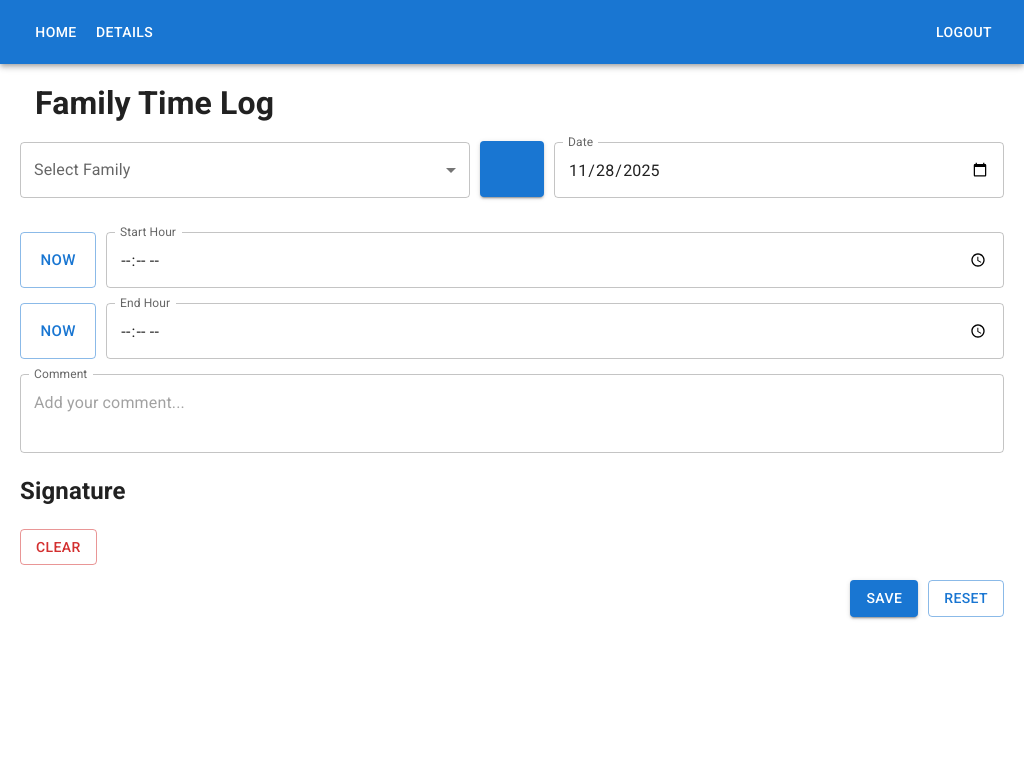
it: Time logger test › should prevent from saving if family is not selected and show validation
This screenshot has width=1024, height=768.
What coordinates should you click on to do the following:
click the button with test id "time-log-save-log-button"
I would click on:
 (885, 599)
Its box is x1=851 y1=580 x2=919 y2=617.
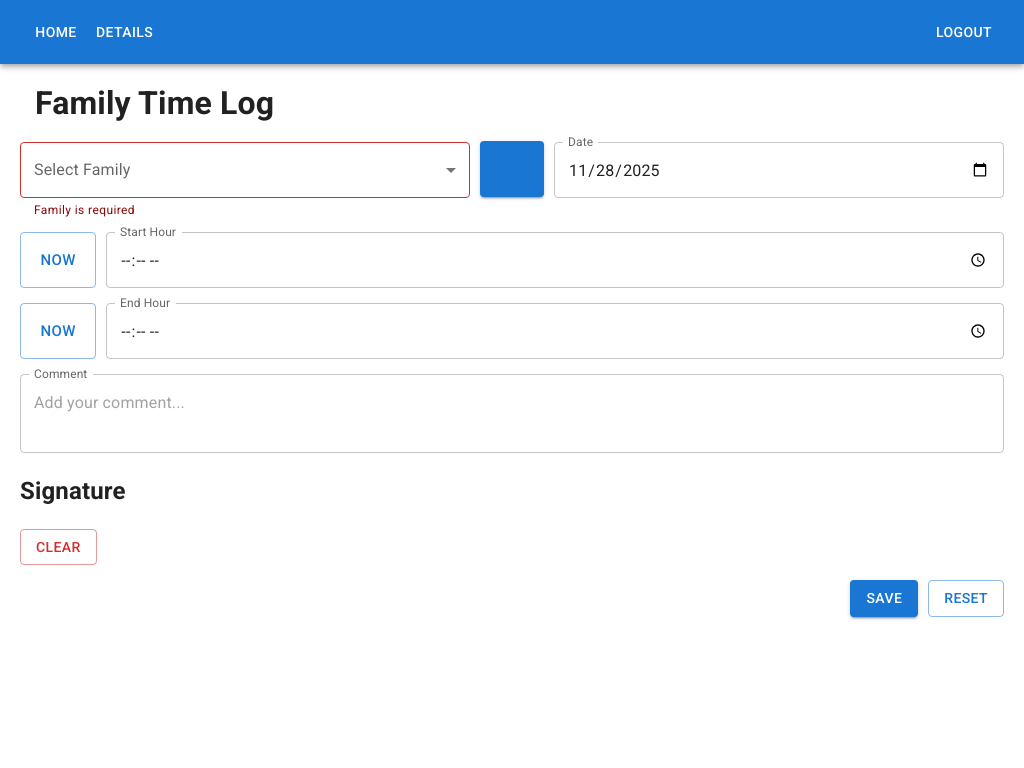
Expected: the text with test id "time-log-family-select-option-error" reads "Family is required", x1=34 y1=203 x2=135 y2=217
